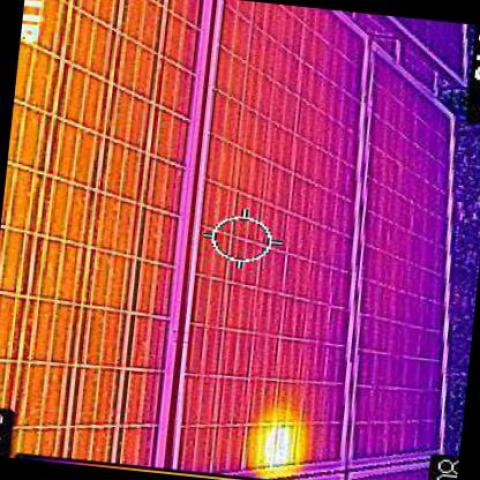fault: (260, 422, 296, 464)
